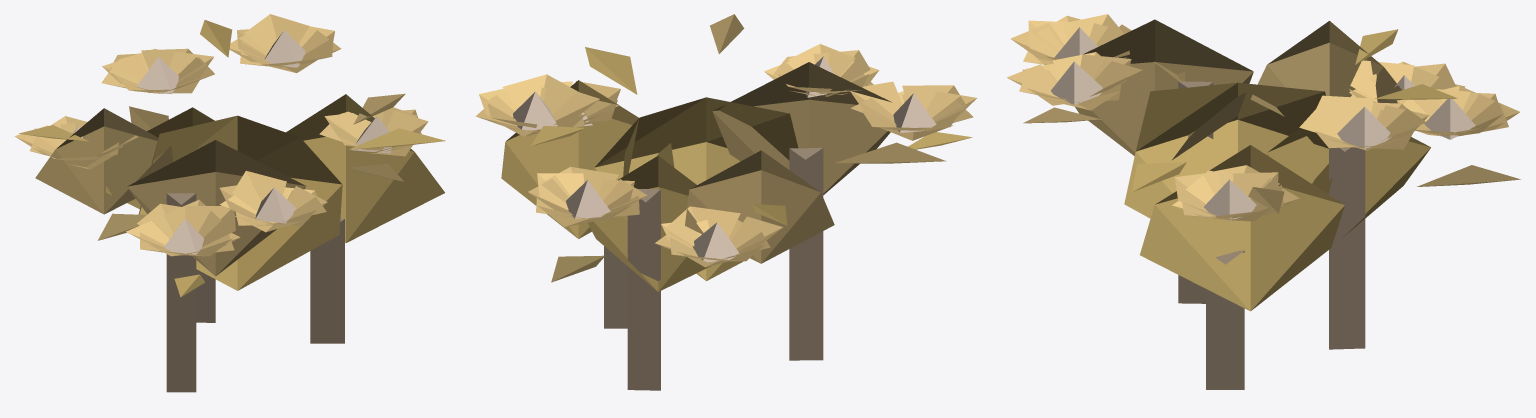
Rendered from hua.ju__autumn.glb.
3 renders of one model, left to right at view 1: azimuth 30°, elevation 25°; view 2: azimuth 150°, elevation 25°; view 3: azimuth 270°, elevation 25°, orthographic. The views are drawn at different scales.
Parts seen in each view (by area): view 1: hua.ju__autumn; view 2: hua.ju__autumn; view 3: hua.ju__autumn.
Boxes of the visible parts, left/top/right/bottom form: hua.ju__autumn: left=14, top=14, right=445, bottom=392; hua.ju__autumn: left=475, top=14, right=976, bottom=390; hua.ju__autumn: left=1007, top=14, right=1520, bottom=389.
Size of the model in its own units: 1.24 by 0.8611 by 1.35.
